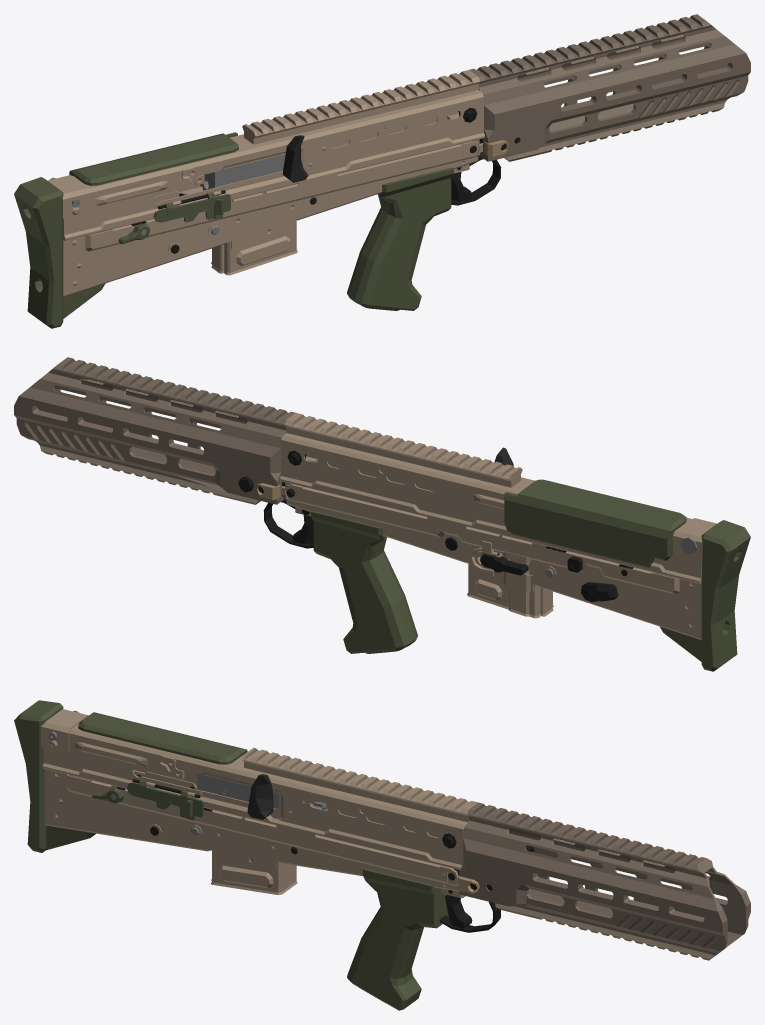
3 views of the same model, one above another, from view 1: azimuth 30°, elevation 25°; view 2: azimuth 150°, elevation 25°; view 3: azimuth 330°, elevation 25° (orthographic).
Visible parts, largest first — view 1: l85a3 lower_10 (×3), l85a3 upper_15 (×2), l85a3 handguard (mlok)_9, l85a3 bolt_6 (×2), l85a3 dust cover_7; view 2: l85a3 lower_10 (×3), l85a3 upper_15 (×2), l85a3 handguard (mlok)_9, l85a3 selector_13, l85a3 mag catch_11; view 3: l85a3 lower_10 (×3), l85a3 handguard (mlok)_9, l85a3 upper_15 (×2), l85a3 bolt_6 (×2), l85a3 dust cover_7, l85a3 trigga_14.
Boxes of the visible parts, x1=… form: l85a3 lower_10 (×3): x1=14, y1=141, x2=501, y2=328; l85a3 upper_15 (×2): x1=48, y1=70, x2=485, y2=240; l85a3 handguard (mlok)_9: x1=469, y1=14, x2=750, y2=161; l85a3 bolt_6 (×2): x1=200, y1=135, x2=308, y2=190; l85a3 dust cover_7: x1=153, y1=192, x2=230, y2=222; l85a3 lower_10 (×3): x1=263, y1=484, x2=750, y2=671; l85a3 upper_15 (×2): x1=279, y1=413, x2=716, y2=583; l85a3 handguard (mlok)_9: x1=14, y1=357, x2=295, y2=504; l85a3 selector_13: x1=581, y1=582, x2=618, y2=601; l85a3 mag catch_11: x1=480, y1=553, x2=528, y2=575; l85a3 lower_10 (×3): x1=14, y1=700, x2=500, y2=1010; l85a3 handguard (mlok)_9: x1=459, y1=802, x2=750, y2=960; l85a3 upper_15 (×2): x1=41, y1=709, x2=478, y2=869; l85a3 bolt_6 (×2): x1=197, y1=774, x2=328, y2=819; l85a3 dust cover_7: x1=127, y1=780, x2=203, y2=820; l85a3 trigga_14: x1=445, y1=869, x2=472, y2=928.
Size of the model in its own units: 6.47 by 1.87 by 0.6059.
